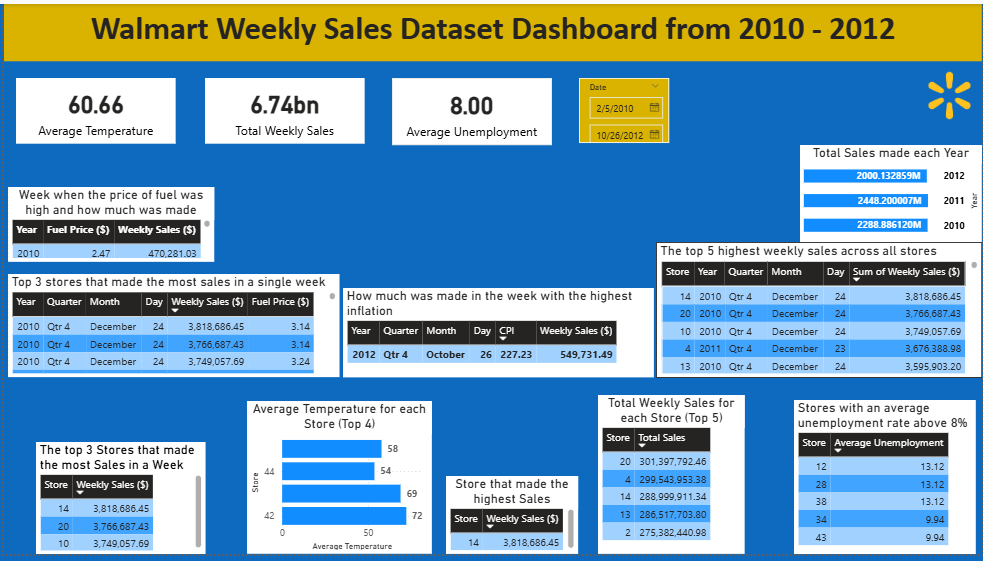

This screenshot's page, from the dashboard's own definition file:
{"tool":"powerbi","page":{"name":"Page 1","canvas":[1280,720],"ordinal":0},"visuals":[{"type":"textbox","box":[0,0,1280,74.3],"z":0},{"type":"image","box":[1194.7,85.3,85.3,49.5],"z":1000},{"type":"slicer","title":"Which Store made the Highest Sales","fields":{"Values":["Walmart.Date"]},"box":[16.5,79.8,118.4,85.3],"z":2000},{"type":"card","fields":{"Values":["Walmart.Average Temperature"]},"box":[195.4,85.3,210.6,74.3],"z":4000},{"type":"card","fields":{"Values":["Walmart.Total Weekly Sales"]},"box":[419.8,85.3,209.2,74.3],"z":5000},{"type":"card","fields":{"Values":["Walmart.Average Unemployment"]},"box":[640,85.3,209.2,74.3],"z":6000},{"type":"tableEx","title":"Store that made the highest Sales","fields":{"Values":["Walmart.Store","Walmart.Weekly Sales ($)"]},"box":[301.4,206.5,172,101.8],"z":7000},{"type":"tableEx","title":"Total Weekly Sales for each Store","fields":{"Values":["Walmart.Store","Walmart.Total Sales"]},"box":[810.7,264.3,192.7,455.6],"z":8000},{"type":"tableEx","title":"Average Temperature for each Store","fields":{"Values":["Walmart.Store","Walmart.Average Temperature"]},"box":[16.5,273.9,203.7,445.9],"z":9000},{"type":"clusteredBarChart","title":"Total Sales made each Year","fields":{"Y":["Walmart.Total Sales"],"Category":["Walmart.Date.Variation.Date Hierarchy.Year"]},"box":[1035,257.4,238.1,126.6],"z":10000},{"type":"tableEx","title":"Week when the price of fuel was high  and how much was made","fields":{"Values":["Walmart.Date.Variation.Date Hierarchy.Year","Walmart.Fuel Price ($)","Walmart.Weekly Sales ($)"]},"box":[16.5,170.7,271.1,97.7],"z":11000},{"type":"tableEx","title":"The top 5 highest weekly sales across all stores","fields":{"Values":["Walmart.Store","Walmart.Date.Variation.Date Hierarchy.Year","Walmart.Date.Variation.Date Hierarchy.Quarter","Walmart.Date.Variation.Date Hierarchy.Month","Walmart.Date.Variation.Date Hierarchy.Day","Sum(Walmart.Weekly Sales ($))"]},"box":[287.7,360.6,426.7,178.9],"z":12000},{"type":"tableEx","title":"How much was made in the week with the highest inflation","fields":{"Values":["Walmart.Date.Variation.Date Hierarchy.Year","Walmart.Date.Variation.Date Hierarchy.Quarter","Walmart.Date.Variation.Date Hierarchy.Month","Walmart.Date.Variation.Date Hierarchy.Day","Walmart.CPI","Walmart.Weekly Sales ($)"]},"box":[809.3,165.2,462.5,89.5],"z":13000},{"type":"tableEx","title":"Stores with an average unemployment rate above 8%","fields":{"Values":["Walmart.Store","Walmart.Average Unemployment"]},"box":[1035,388.1,238.1,331.7],"z":14000},{"type":"pieChart","title":"The top 3 Stores that made the most Sales in a Week","fields":{"Category":["Walmart.Date.Variation.Date Hierarchy.Year"],"Y":["Walmart.Average Fuel Price"]},"box":[491.4,165.2,297.3,141.8],"z":15000},{"type":"tableEx","title":"Top 3 stores that made the most sales in a single week","fields":{"Values":["Walmart.Date.Variation.Date Hierarchy.Year","Walmart.Date.Variation.Date Hierarchy.Quarter","Walmart.Date.Variation.Date Hierarchy.Month","Walmart.Date.Variation.Date Hierarchy.Day","Walmart.Weekly Sales ($)","Walmart.Fuel Price ($)"]},"box":[287.7,572.6,433.5,136.3],"z":16000}]}

Visuals, with their boxes in screenshot pixels (x1, y1, x2, y2), scaled from the page's 1280x720 canvas onto the 983x561 screenshot:
textbox: rect(0, 0, 982, 58)
image: rect(917, 66, 982, 105)
"Which Store made the Highest Sales" slicer: rect(13, 62, 104, 129)
card - Walmart.Average Temperature: rect(150, 66, 312, 124)
card - Walmart.Total Weekly Sales: rect(322, 66, 483, 124)
card - Walmart.Average Unemployment: rect(492, 66, 652, 124)
"Store that made the highest Sales" tableEx: rect(231, 161, 364, 240)
"Total Weekly Sales for each Store" tableEx: rect(623, 206, 771, 560)
"Average Temperature for each Store" tableEx: rect(13, 213, 169, 560)
"Total Sales made each Year" clusteredBarChart: rect(795, 201, 978, 299)
"Week when the price of fuel was high  and how much was made" tableEx: rect(13, 133, 221, 209)
"The top 5 highest weekly sales across all stores" tableEx: rect(221, 281, 549, 420)
"How much was made in the week with the highest inflation" tableEx: rect(622, 129, 977, 198)
"Stores with an average unemployment rate above 8%" tableEx: rect(795, 302, 978, 560)
"The top 3 Stores that made the most Sales in a Week" pieChart: rect(377, 129, 606, 239)
"Top 3 stores that made the most sales in a single week" tableEx: rect(221, 446, 554, 552)
